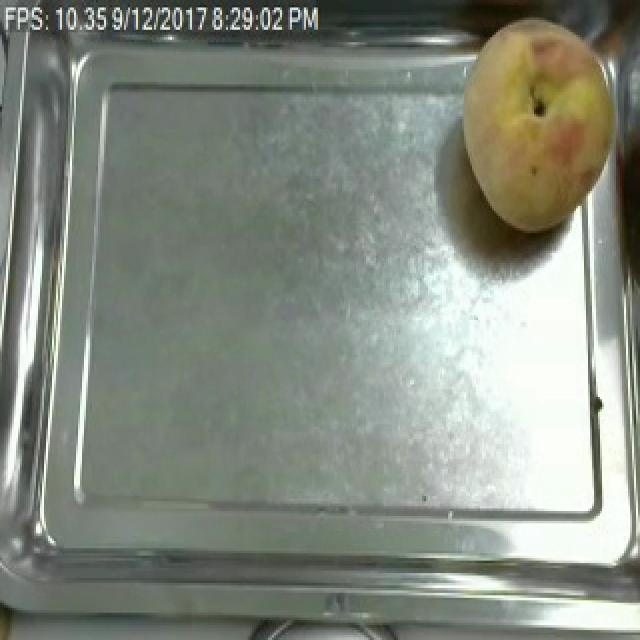Fruit: (452, 10, 636, 241)
